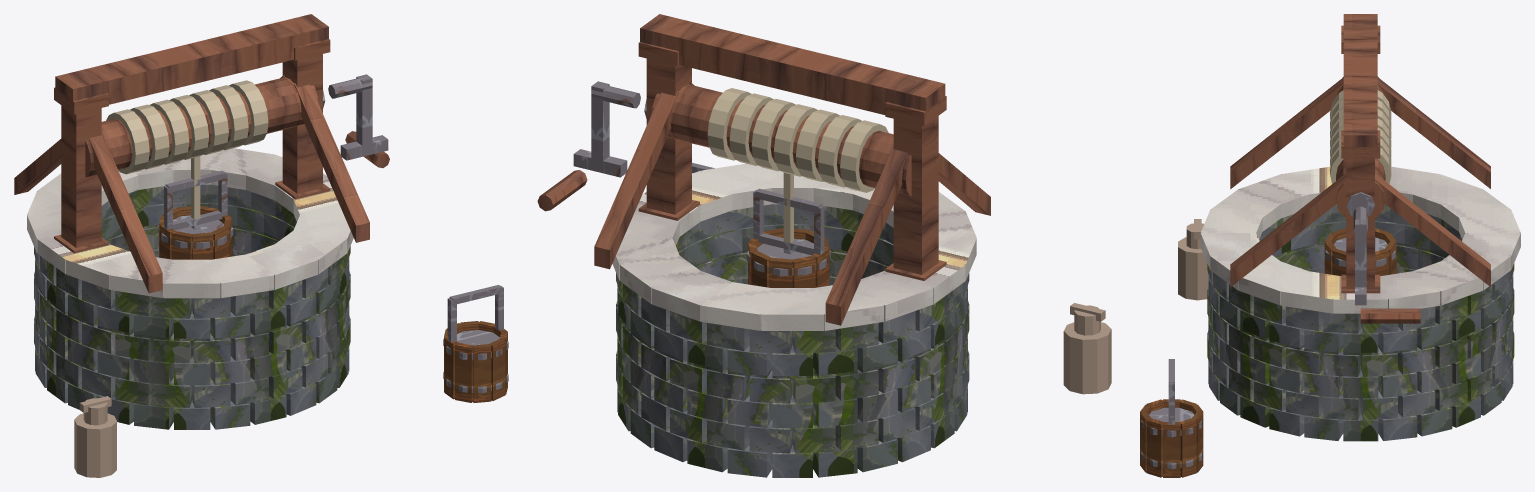
The model's file is brunn.glb.
3 renders of one model, left to right at view 1: azimuth 30°, elevation 25°; view 2: azimuth 150°, elevation 25°; view 3: azimuth 270°, elevation 25°, orthographic. The views are drawn at different scales.
Visible parts, largest first — view 1: brunn_mörkt_virke, brunn_fot_sten, brunn_sockel, brunn_fot_puts, brunn_rep, brunn_järn, brunn_ljust_virke, brunn_lera; view 2: brunn_mörkt_virke, brunn_fot_sten, brunn_sockel, brunn_fot_puts, brunn_rep, brunn_järn, brunn_lera, brunn_ljust_virke; view 3: brunn_sockel, brunn_fot_sten, brunn_fot_puts, brunn_mörkt_virke, brunn_ljust_virke, brunn_järn, brunn_rep, brunn_lera.
Boxes of the visible parts, <box> form: brunn_mörkt_virke: <box>14,14,389,293</box>; brunn_fot_sten: <box>34,184,350,407</box>; brunn_sockel: <box>35,202,349,429</box>; brunn_fot_puts: <box>27,148,353,298</box>; brunn_rep: <box>106,80,268,227</box>; brunn_järn: <box>158,74,508,393</box>; brunn_ljust_virke: <box>159,206,507,402</box>; brunn_lera: <box>74,396,116,477</box>; brunn_mörkt_virke: <box>537,14,990,325</box>; brunn_fot_sten: <box>616,204,969,453</box>; brunn_sockel: <box>617,224,967,477</box>; brunn_fot_puts: <box>612,163,976,330</box>; brunn_rep: <box>707,88,888,253</box>; brunn_järn: <box>573,81,830,276</box>; brunn_lera: <box>1063,303,1111,394</box>; brunn_ljust_virke: <box>748,228,829,287</box>; brunn_sockel: <box>1208,221,1513,441</box>; brunn_fot_sten: <box>1207,204,1514,420</box>; brunn_fot_puts: <box>1200,166,1520,313</box>; brunn_mörkt_virke: <box>1230,14,1490,323</box>; brunn_ljust_virke: <box>1140,228,1396,477</box>; brunn_järn: <box>1141,192,1395,468</box>; brunn_rep: <box>1330,90,1391,183</box>; brunn_lera: <box>1178,219,1208,300</box>.
Size of the model in its own units: 3.55 by 2.56 by 2.92.
10 materials, 6 textured.
